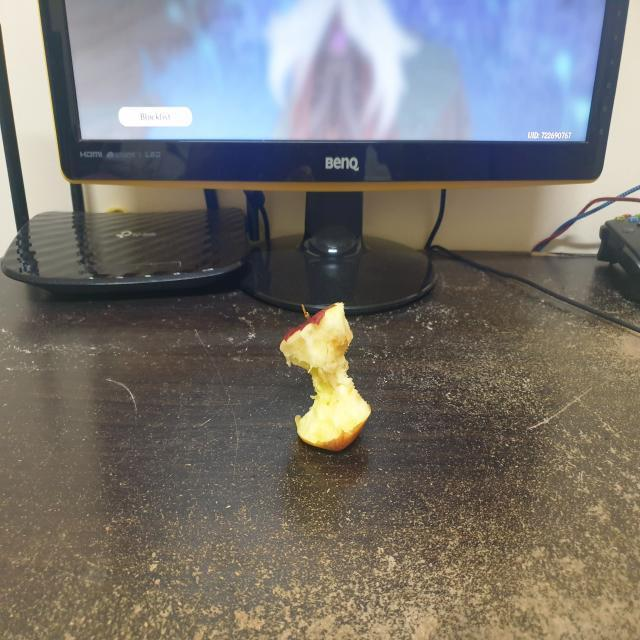apple: (272, 296, 376, 468)
